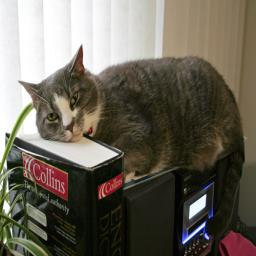catnose: (63, 117, 77, 137)
